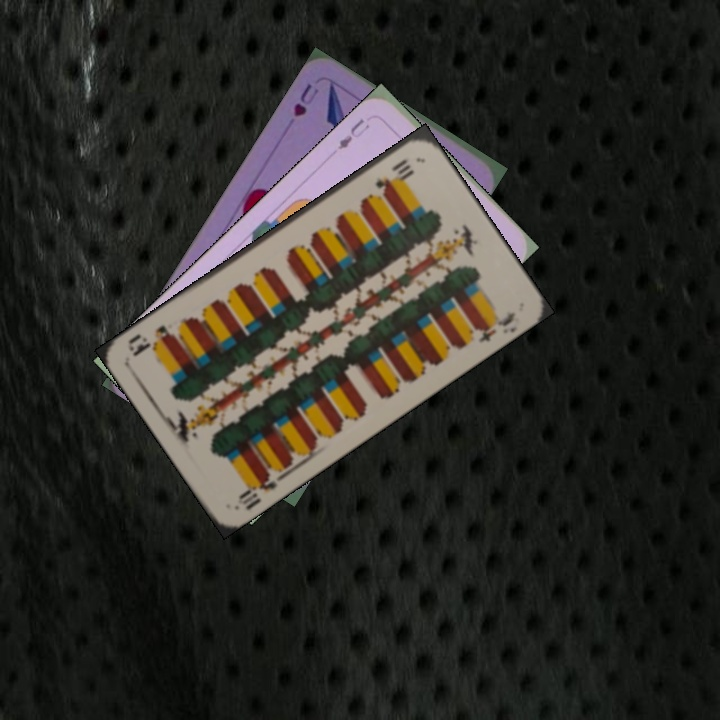E10: (232, 467, 285, 512), (371, 155, 415, 193)
EU: (333, 114, 373, 152)
HU: (289, 79, 322, 120)
